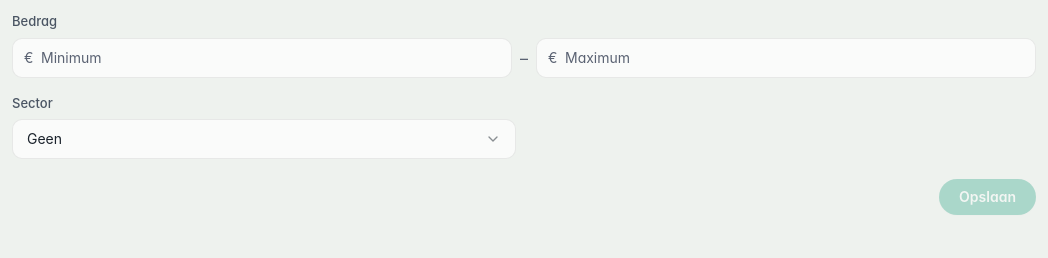
DealFieldsEditor › refuses a minimum above the maximum
Type "500000" into the field named "Bedrag minimum" at (262, 58), box x1=12 y1=38 x2=512 y2=78
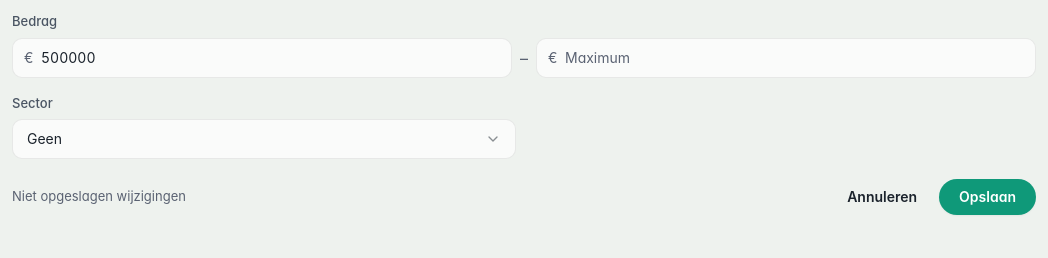
Type "400000" into the field named "Bedrag maximum" at (786, 58), box x1=536 y1=38 x2=1036 y2=78
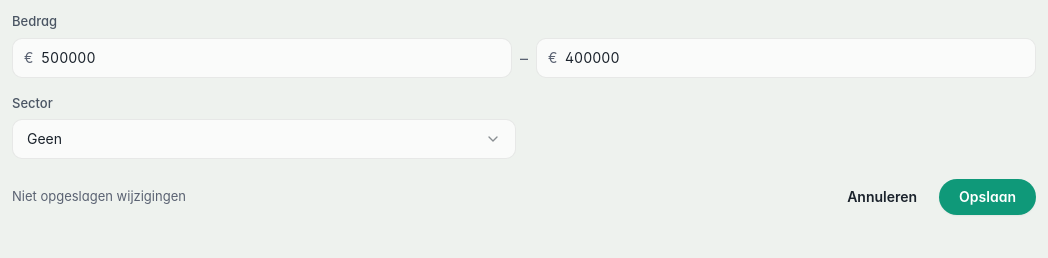
Click the button "Opslaan" at (988, 197), box x1=939 y1=179 x2=1036 y2=215
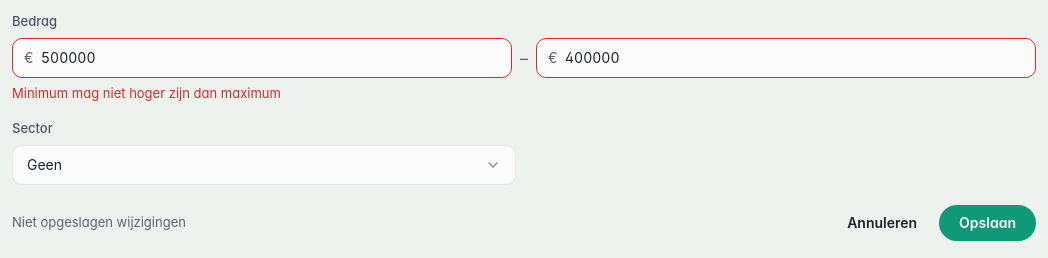
Check: the text "Minimum mag niet hoger zijn dan maximum" is shown, box x1=12 y1=84 x2=281 y2=100
